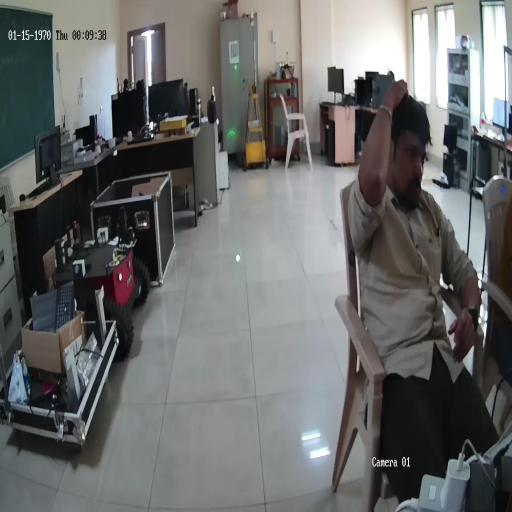laser: (235, 252, 241, 264)
